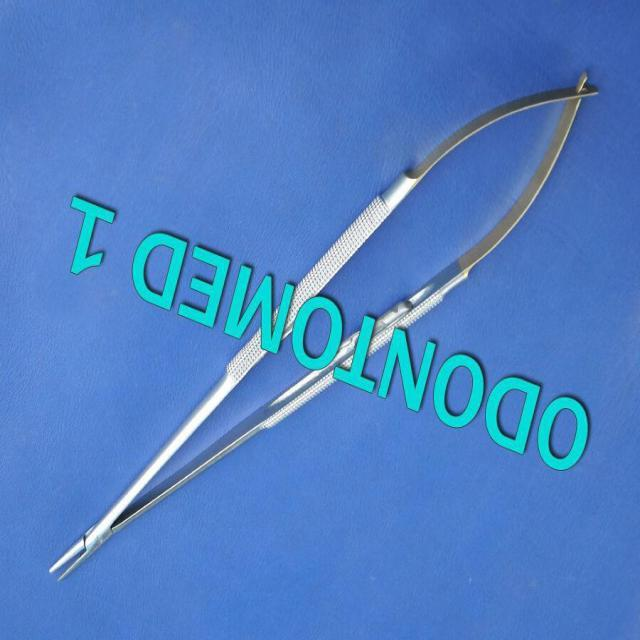Castroviejo: (46, 70, 602, 586)
